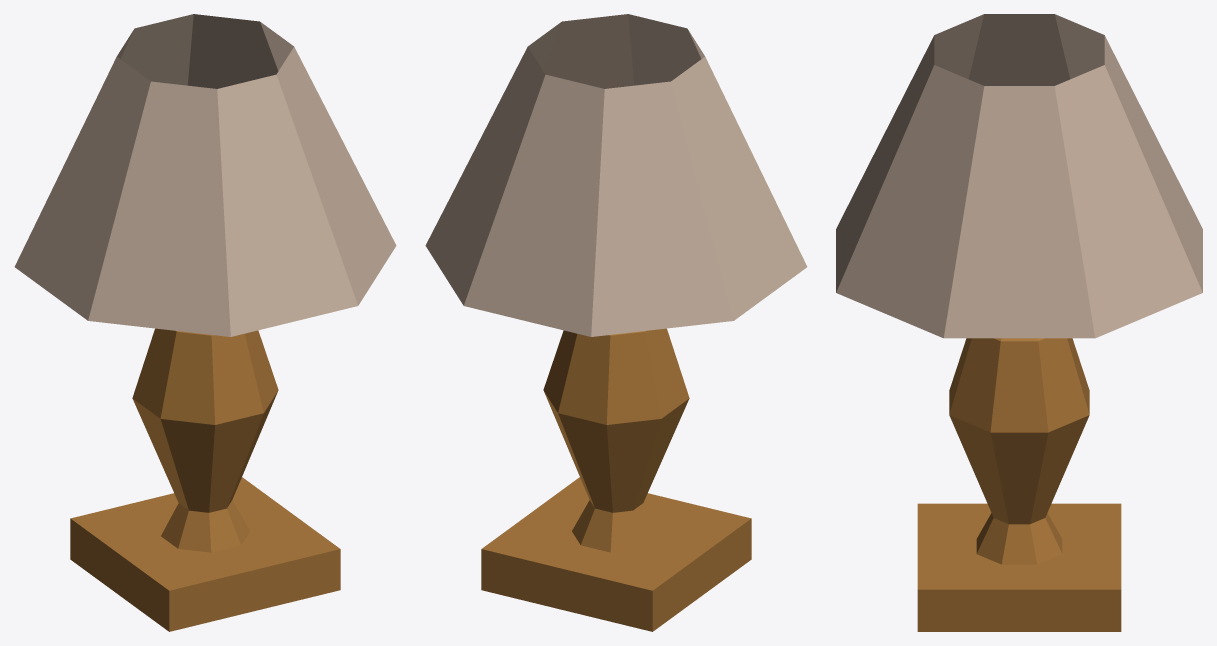
Rendered from Lamp_decorative-Light_01.fbx.
The picture shows the model from 3 angles, left to right: view 1: azimuth 30°, elevation 25°; view 2: azimuth 150°, elevation 25°; view 3: azimuth 270°, elevation 25°; orthographic projection. The views are drawn at different scales.
Parts seen in each view (by area): view 1: Lamp_decorative_01; view 2: Lamp_decorative_01; view 3: Lamp_decorative_01.
Boxes of the visible parts, x1=… form: Lamp_decorative_01: x1=14, y1=14, x2=396, y2=631; Lamp_decorative_01: x1=425, y1=14, x2=807, y2=631; Lamp_decorative_01: x1=836, y1=14, x2=1202, y2=631.
Bounding box in the file's own units: 0.2856 × 0.4632 × 0.2856.
